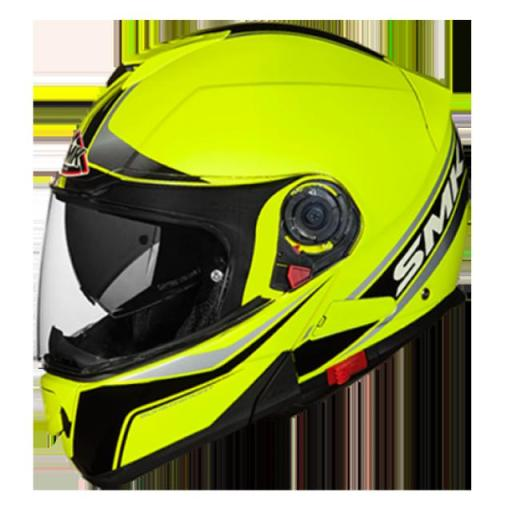Helmet: (39, 24, 467, 487)
